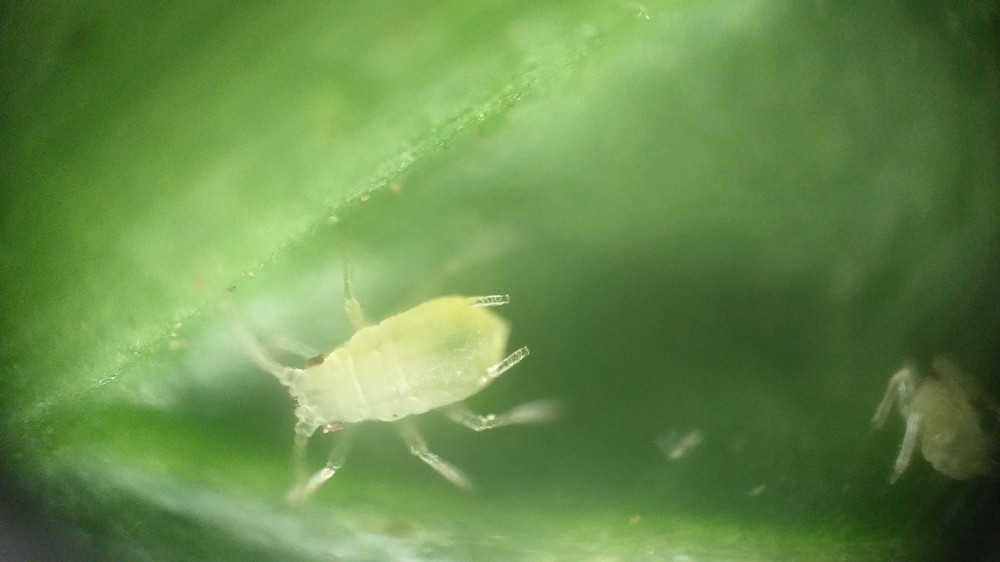Pulgon: (193, 223, 600, 519), (848, 320, 1000, 501)
